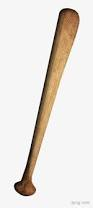straight_bar: (10, 4, 82, 202)
